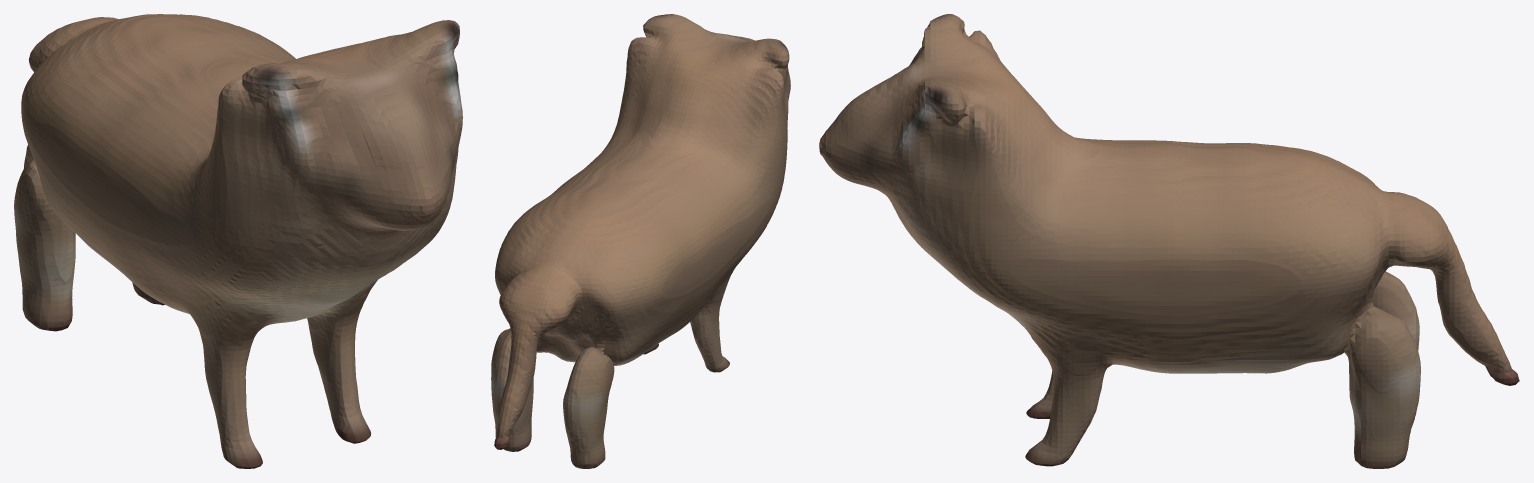
Rendered from dog.glb.
The picture shows the model from 3 angles, left to right: view 1: azimuth 30°, elevation 25°; view 2: azimuth 150°, elevation 25°; view 3: azimuth 270°, elevation 25°; orthographic projection. The views are drawn at different scales.
Parts seen in each view (by area): view 1: tmp190h8wva.ply; view 2: tmp190h8wva.ply; view 3: tmp190h8wva.ply.
Boxes of the visible parts, x1=… form: tmp190h8wva.ply: x1=14, y1=14, x2=462, y2=468; tmp190h8wva.ply: x1=491, y1=14, x2=790, y2=468; tmp190h8wva.ply: x1=819, y1=14, x2=1519, y2=468.
Size of the model in its own units: 0.6841 by 1.2 by 1.97.
